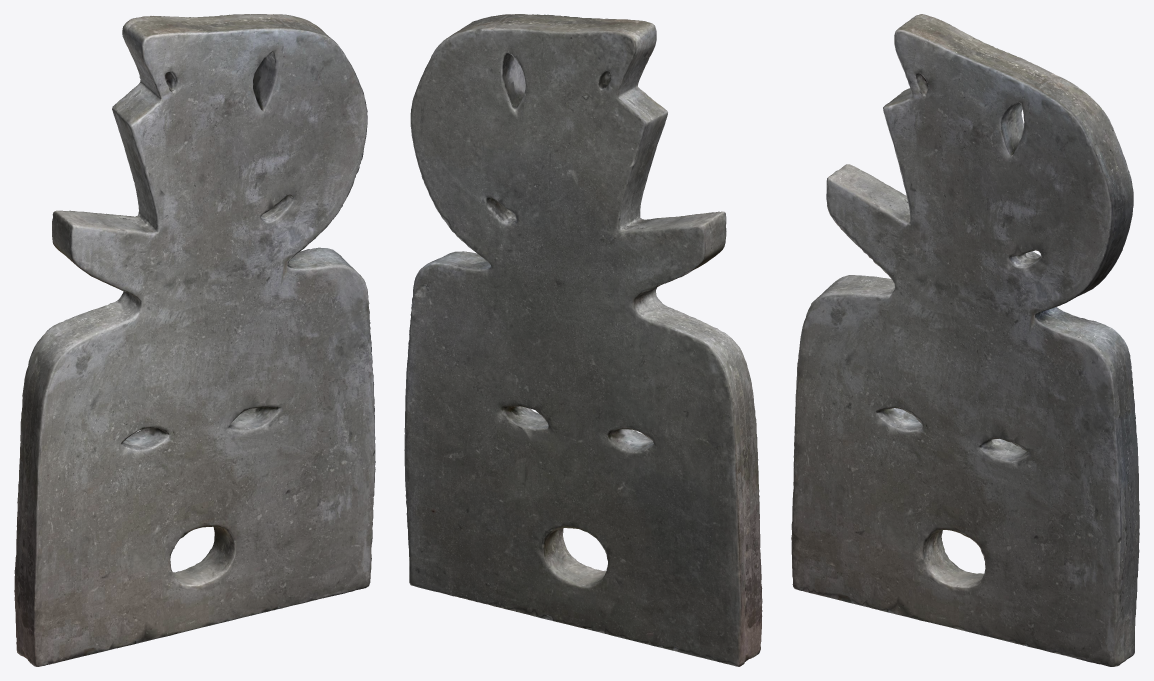
Rendered from tall-gray.glb.
3 views of the same model, side by side, from view 1: azimuth 30°, elevation 25°; view 2: azimuth 150°, elevation 25°; view 3: azimuth 330°, elevation 25° (orthographic). The views are drawn at different scales.
Parts seen in each view (by area): view 1: model; view 2: model; view 3: model.
Part boxes in pixels (x1=…): model: x1=14, y1=14, x2=375, y2=666; model: x1=404, y1=14, x2=762, y2=666; model: x1=791, y1=14, x2=1139, y2=666.
Bounding box in the file's own units: 0.7024 × 1.19 × 0.0832.
Materials: 1 (1 with a texture image).
